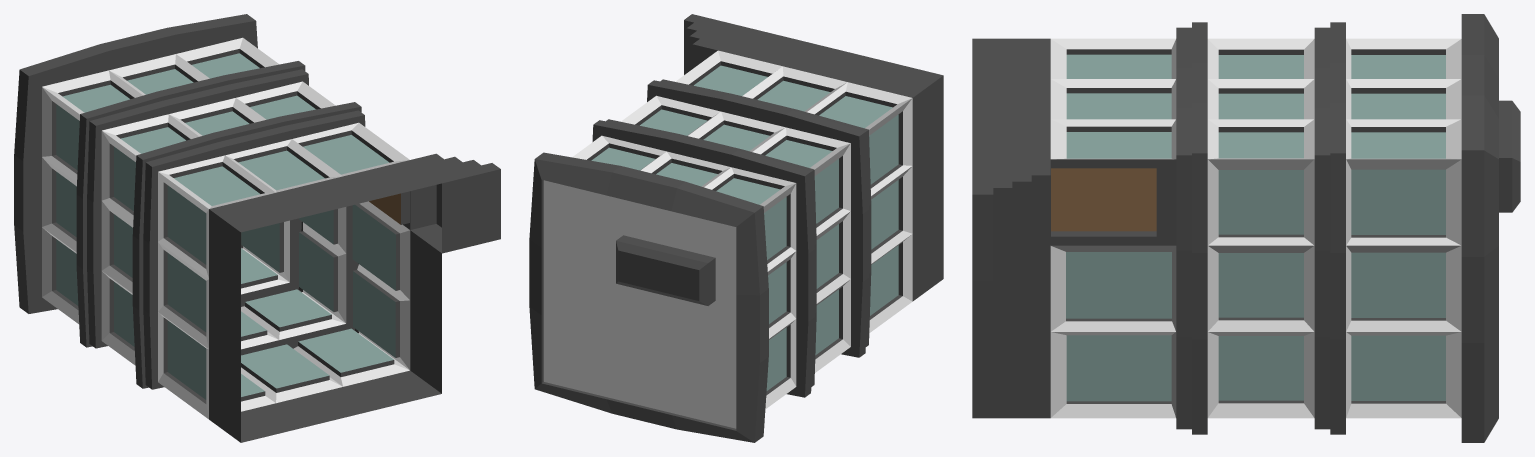
The model's file is GreyboxBuilding2.fbx.
3 views of the same model, side by side, from view 1: azimuth 30°, elevation 25°; view 2: azimuth 150°, elevation 25°; view 3: azimuth 270°, elevation 25° (orthographic). The views are drawn at different scales.
Parts seen in each view (by area): view 1: Building1; view 2: Building1; view 3: Building1.
Part boxes in pixels (x1,y1,x2,y2): Building1: (14, 14, 500, 442); Building1: (529, 14, 943, 442); Building1: (972, 14, 1520, 442).
Bounding box in the file's own units: 306 × 262 × 425.
